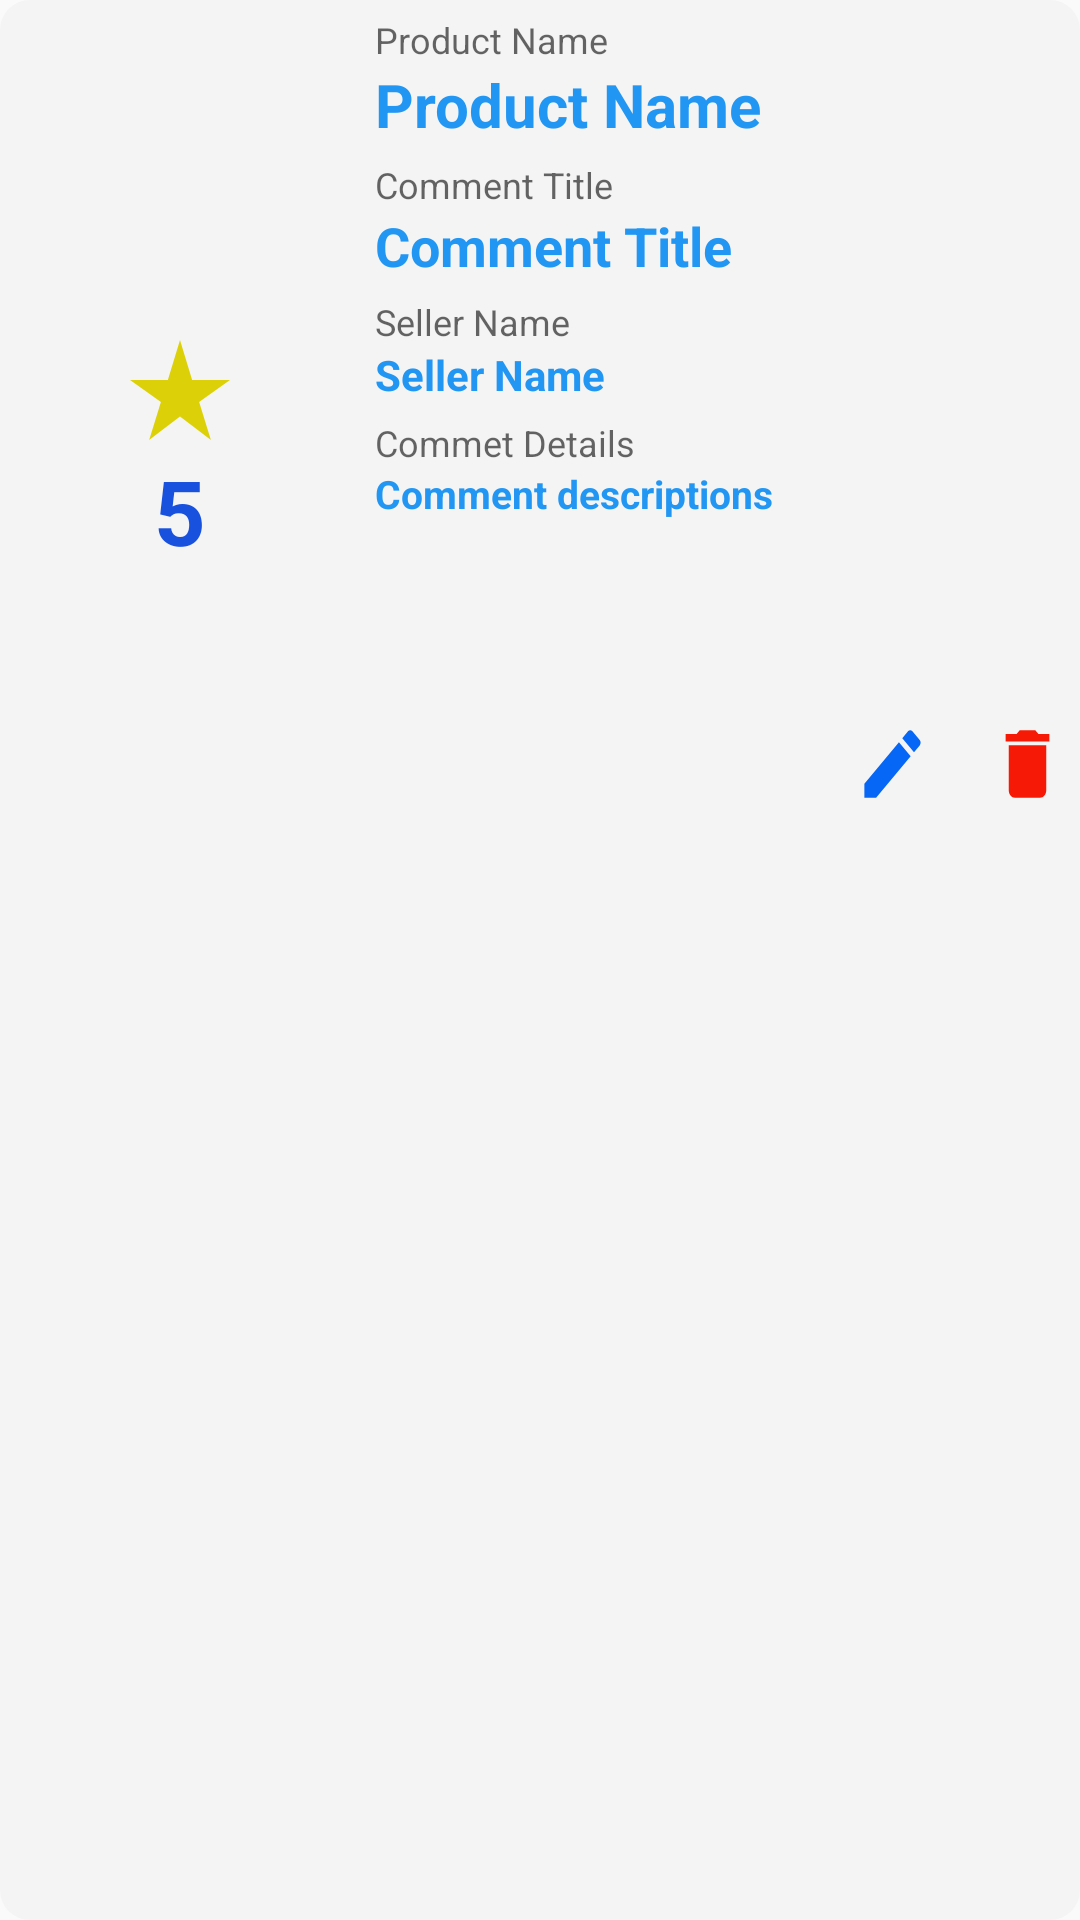

Icons on this 1080 x 1920 Android screen, each with the point to tap as [x,y]:
delete: [1027,764]
edit: [892,764]
rates: [180,390]
